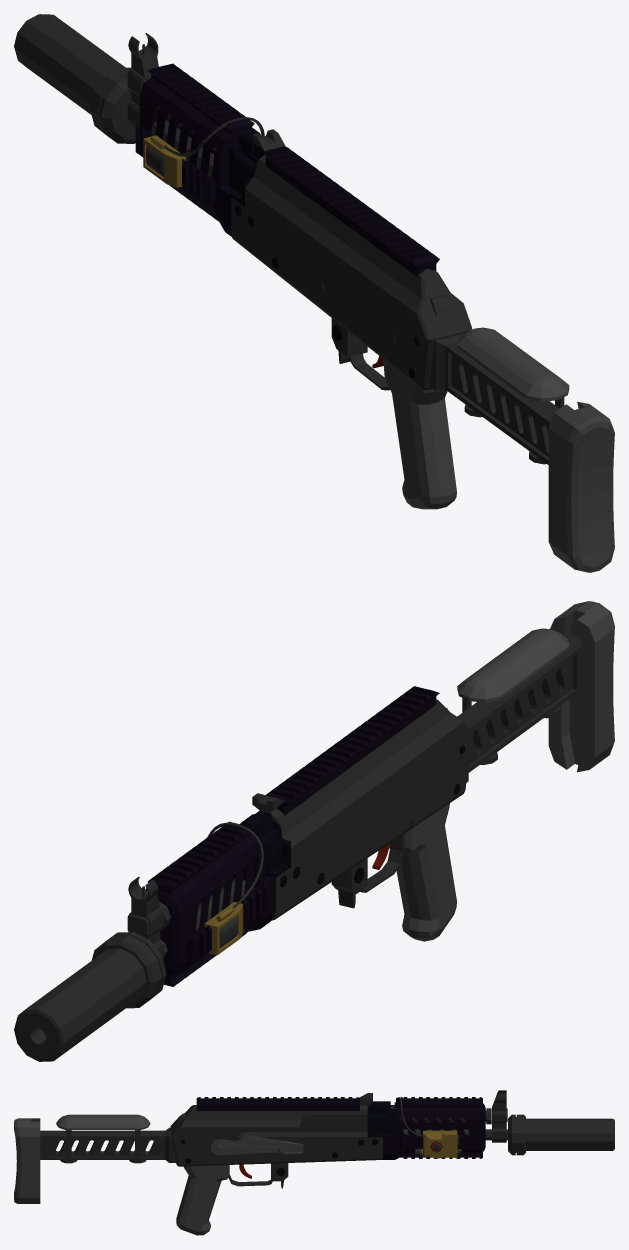
Rendered from aks74ubody.glb.
The picture shows the model from 3 angles, top to bottom: view 1: azimuth 30°, elevation 25°; view 2: azimuth 150°, elevation 25°; view 3: azimuth 270°, elevation 25°; orthographic projection. The views are drawn at different scales.
Parts seen in each view (by area): view 1: Cube.101; view 2: Cube.101; view 3: Cube.101.
Part boxes in pixels (x1,y1,x2,y2): Cube.101: (14, 14, 614, 572); Cube.101: (14, 601, 614, 1061); Cube.101: (14, 1090, 614, 1235).
Size of the model in its own units: 1.18 by 3.42 by 13.16.
